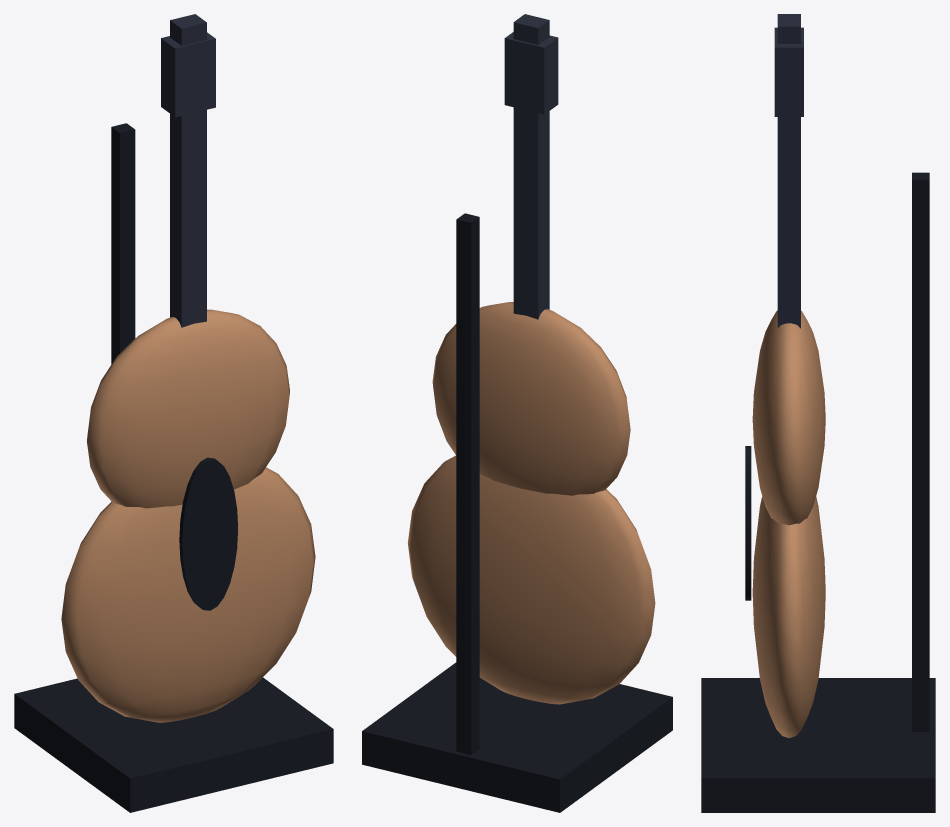
Rendered from guitar-stand.glb.
3 views of the same model, side by side, from view 1: azimuth 30°, elevation 25°; view 2: azimuth 150°, elevation 25°; view 3: azimuth 270°, elevation 25° (orthographic). The views are drawn at different scales.
Parts seen in each view (by area): view 1: guitar-stand; view 2: guitar-stand; view 3: guitar-stand.
Part boxes in pixels (x1,y1,x2,y2): guitar-stand: (14, 14, 333, 812); guitar-stand: (362, 14, 672, 812); guitar-stand: (701, 14, 935, 812).
Bounding box in the file's own units: 38 × 105 × 30.
